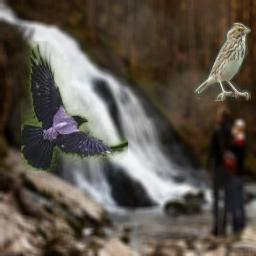Crow: (21, 41, 128, 171)
Sparrow: (194, 22, 251, 101)
